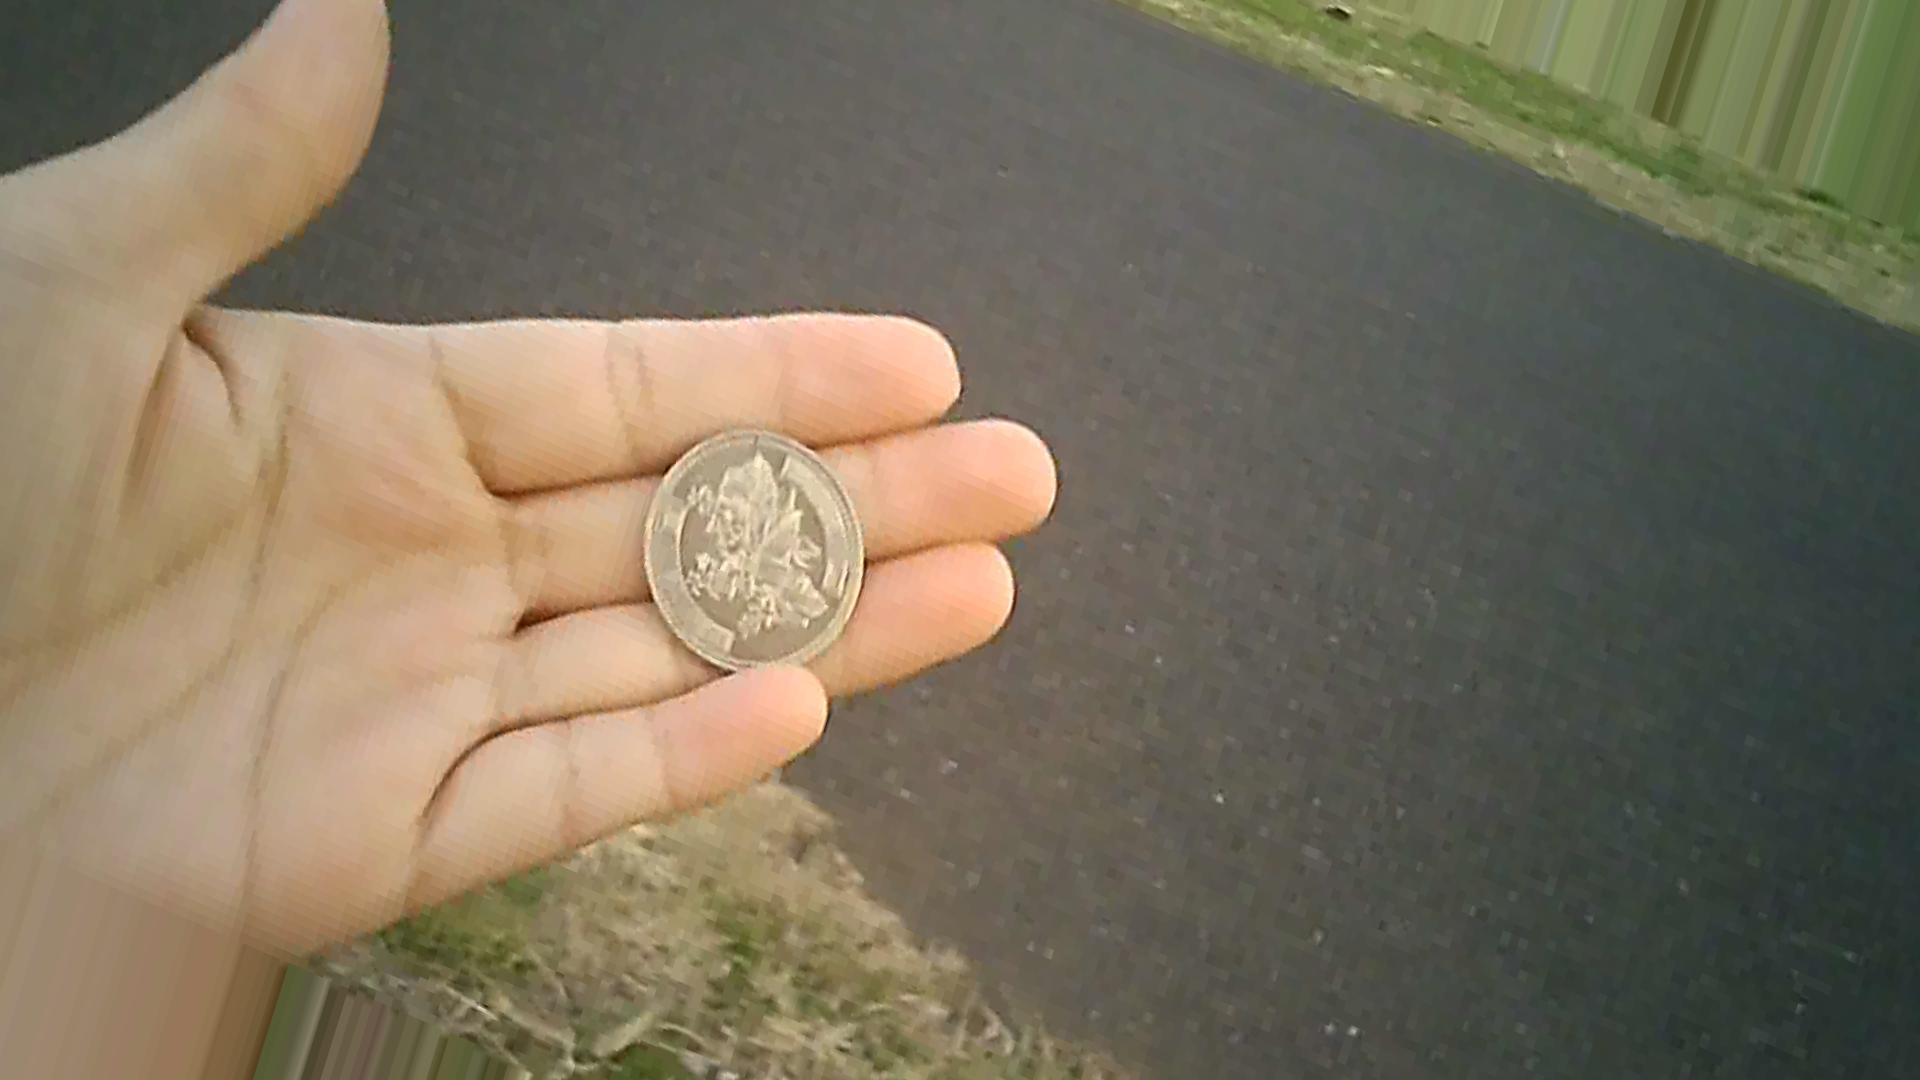500 Yen: (630, 411, 869, 684)
